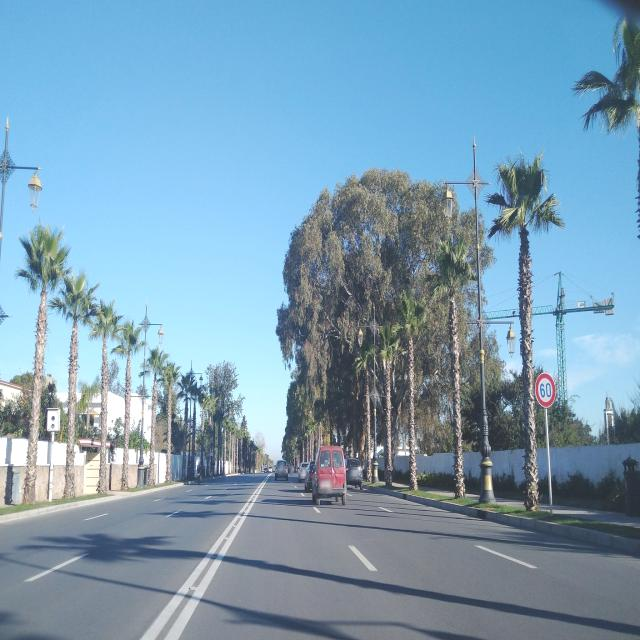car: (312, 446, 346, 504), (345, 457, 362, 489), (304, 462, 316, 491), (274, 459, 288, 482), (298, 462, 309, 482)
